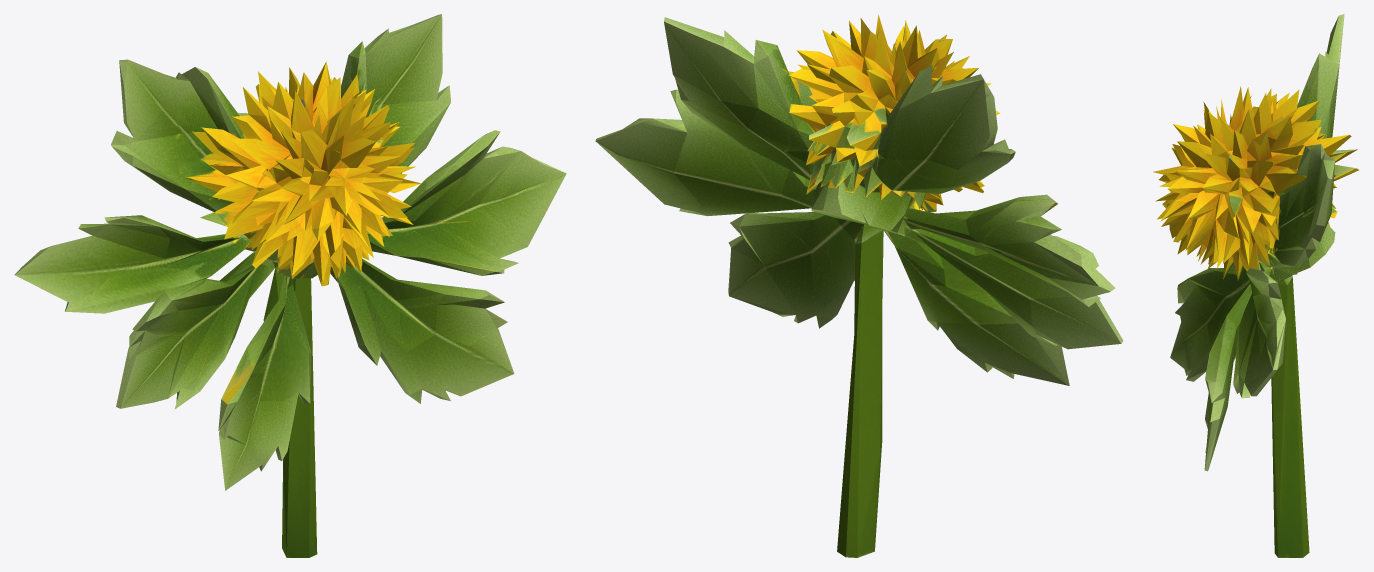
Rendered from weed.glb.
The picture shows the model from 3 angles, left to right: view 1: azimuth 30°, elevation 25°; view 2: azimuth 150°, elevation 25°; view 3: azimuth 270°, elevation 25°; orthographic projection. The views are drawn at different scales.
Visible parts, largest first — view 1: geometry_0; view 2: geometry_0; view 3: geometry_0.
Boxes of the visible parts, <box> form: geometry_0: <box>14,14,566,557</box>; geometry_0: <box>595,14,1123,557</box>; geometry_0: <box>1153,14,1358,557</box>.
Bounding box in the file's own units: 0.2696 × 0.25 × 0.0997.
Materials: 1 (1 with a texture image).
